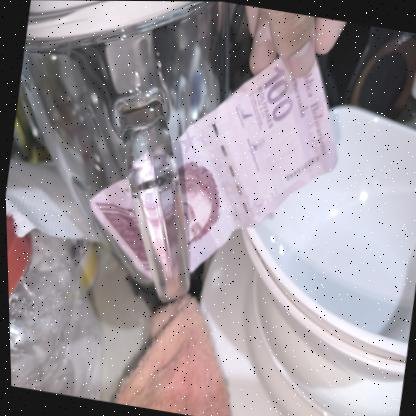one_hundred-front-vef: (71, 21, 356, 309)
